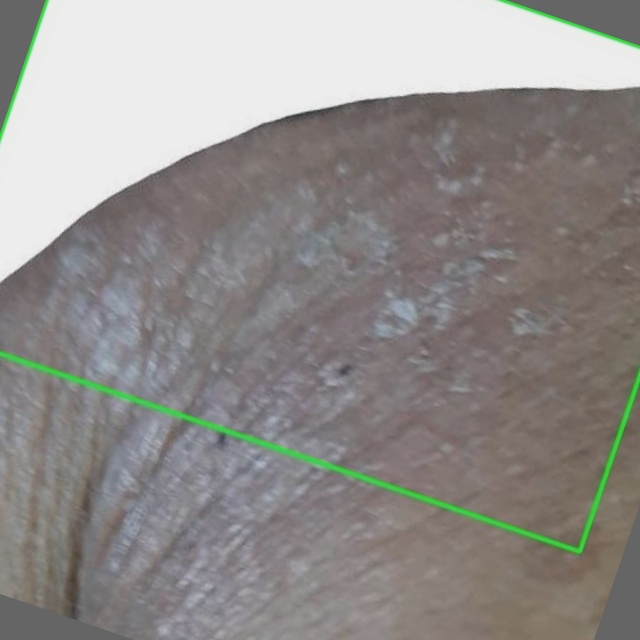Tinea Corporis: (0, 0, 639, 551)
